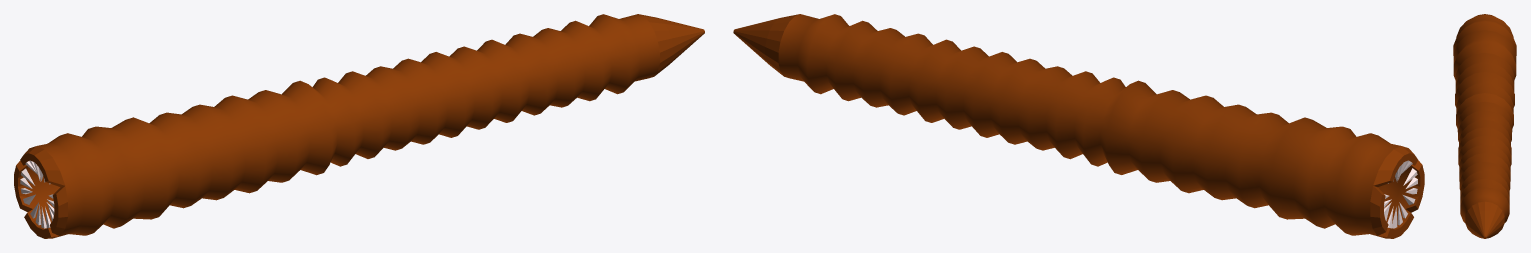
3 renders of one model, left to right at view 1: azimuth 30°, elevation 25°; view 2: azimuth 150°, elevation 25°; view 3: azimuth 270°, elevation 25°, orthographic. The views are drawn at different scales.
Visible parts, largest first — view 1: Cylinder006_05 - Default_0, Cylinder006_17 - Default_0; view 2: Cylinder006_05 - Default_0, Cylinder006_17 - Default_0; view 3: Cylinder006_05 - Default_0.
Part boxes in pixels (left/top/right/bottom): Cylinder006_05 - Default_0: left=14, top=14, right=704, bottom=238; Cylinder006_17 - Default_0: left=20, top=160, right=54, bottom=228; Cylinder006_05 - Default_0: left=733, top=14, right=1424, bottom=238; Cylinder006_17 - Default_0: left=1384, top=160, right=1417, bottom=228; Cylinder006_05 - Default_0: left=1453, top=14, right=1516, bottom=238.
Bounding box in the file's own units: 272 × 36.99 × 36.42.
